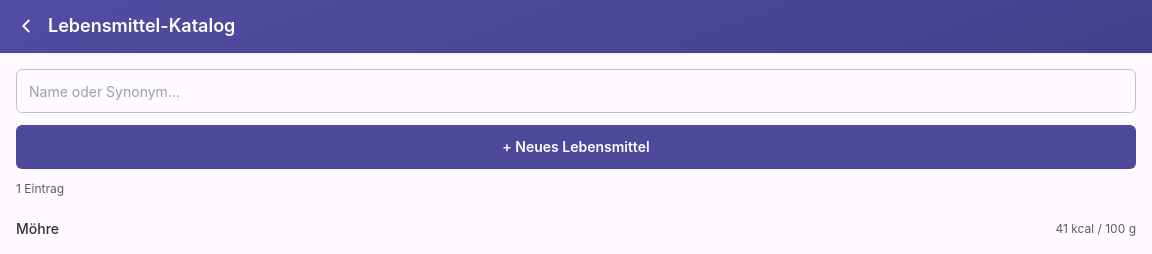
Test: CatalogManagerScreen — list › reports when a filter matches nothing
This screenshot has width=1152, height=254.
expect the text "Möhre" is shown: met, box [16, 220, 59, 237]
Type "zzz" into the search field at (576, 91), box [16, 69, 1136, 113]
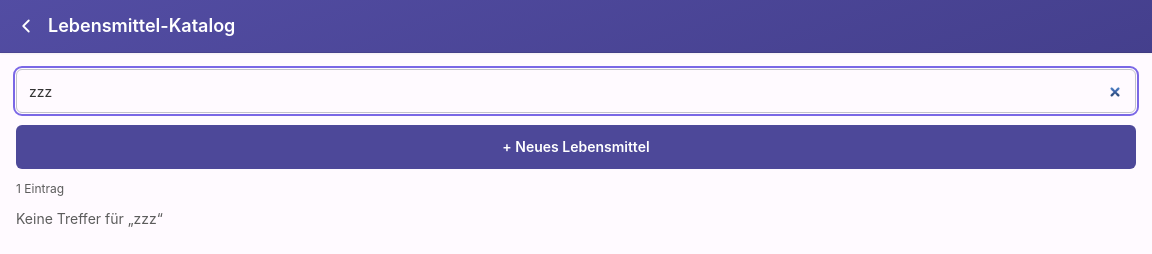
expect the text "Keine Treffer für „zzz“" is shown: met, box [16, 210, 163, 227]
